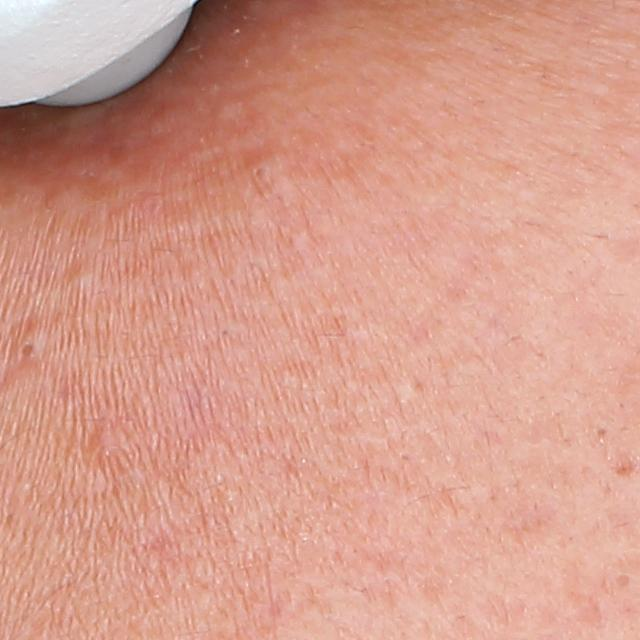comedo: (87, 424, 130, 467), (11, 323, 49, 366), (243, 149, 279, 190), (62, 263, 97, 290), (613, 571, 635, 589), (593, 424, 612, 441)
